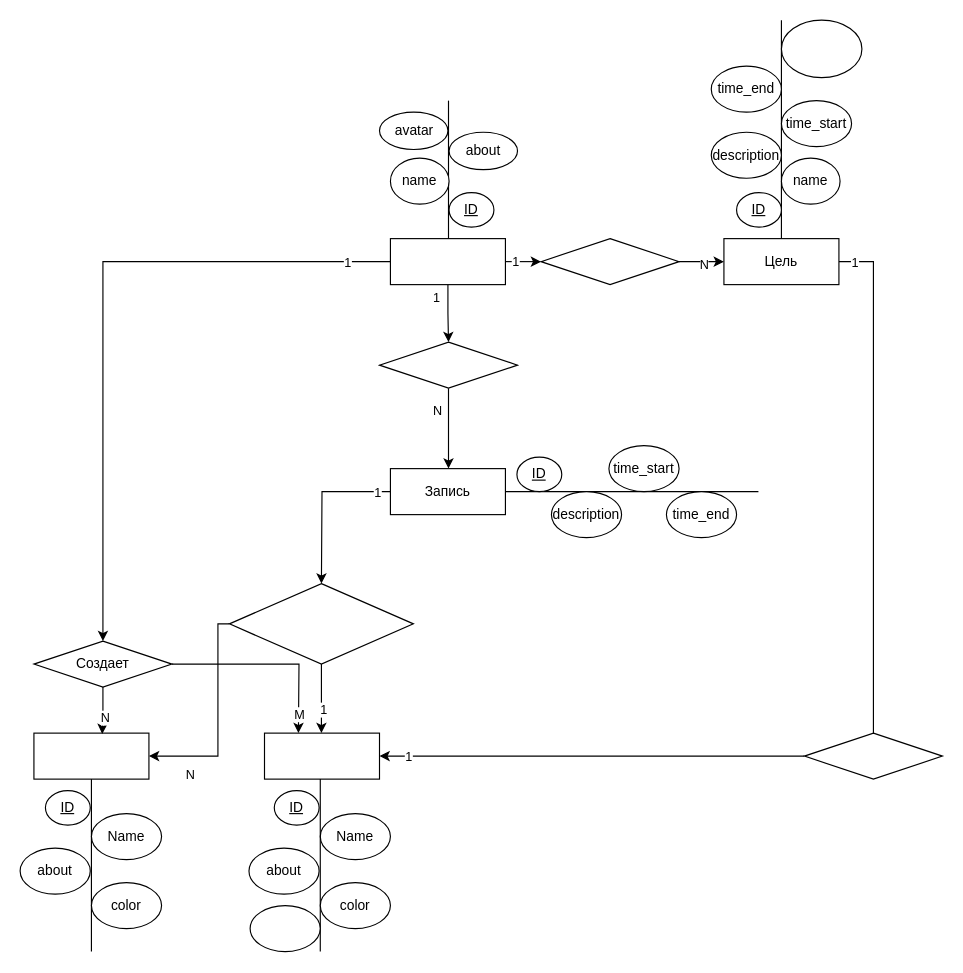
This 963x973 diagram has some shape labels left out. Here are the shapes that lost their labels. From the top down, the box of each, then its label:
(780, 19, 862, 78): hours_count
(389, 237, 505, 285): Пользователь
(540, 237, 679, 285): Ставит
(378, 341, 518, 388): Сохраняет
(228, 582, 413, 664): Может содержать
(33, 732, 149, 779): Тег
(263, 732, 379, 779): Проект
(803, 732, 942, 779): имеет
(249, 904, 320, 952): isPrivate
